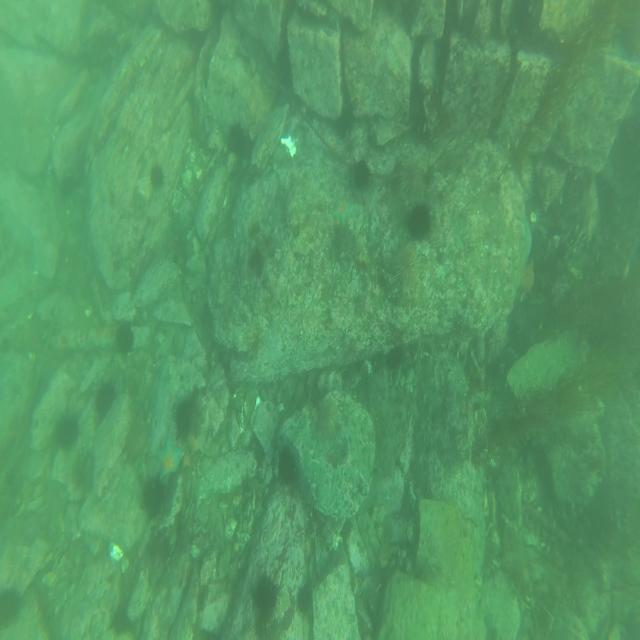echinus: (386, 239, 422, 301), (251, 571, 280, 621), (141, 473, 169, 523), (53, 412, 83, 458), (173, 389, 201, 438), (406, 195, 435, 242), (0, 581, 26, 631), (397, 157, 427, 199), (314, 394, 340, 442), (93, 376, 117, 426), (273, 444, 298, 487), (114, 317, 138, 360), (145, 156, 171, 195), (349, 151, 373, 193), (222, 120, 246, 158), (57, 172, 77, 208)
scallop: (278, 130, 300, 160)
starfish: (155, 432, 183, 482), (332, 194, 353, 223)
